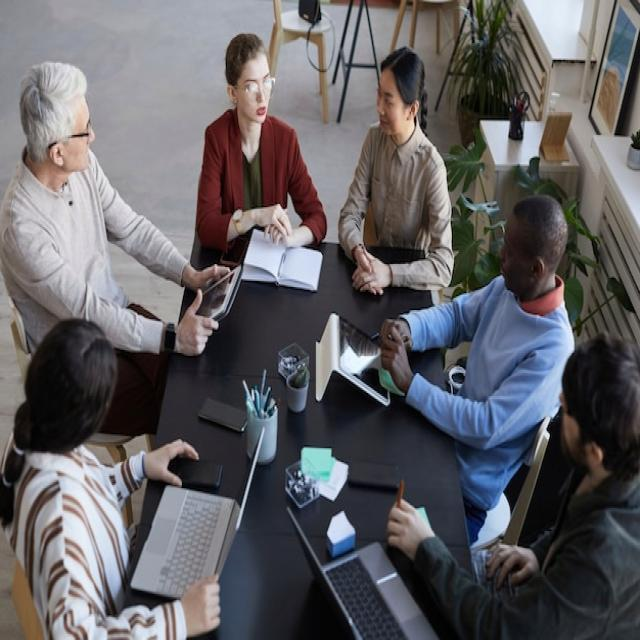adult: (384, 327, 640, 640), (0, 324, 224, 640), (1, 60, 232, 365), (382, 193, 568, 496), (196, 33, 328, 300), (342, 44, 450, 301)
